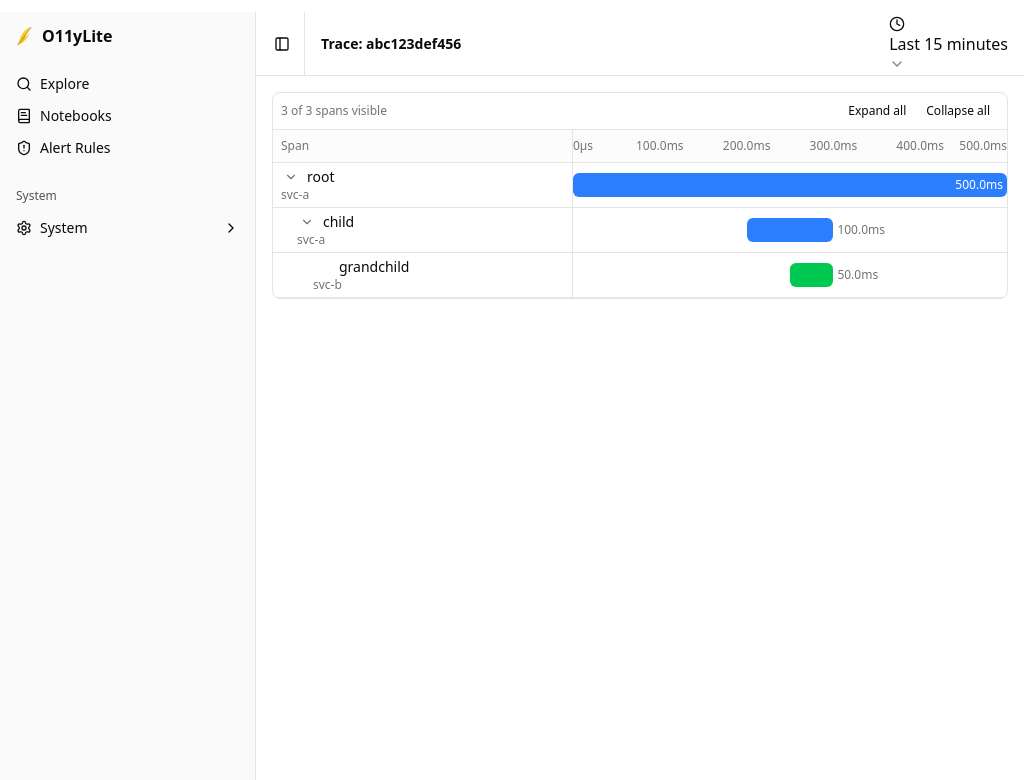
Trace page — span click opens side panel › collapses and expands a span group without selecting the span
Check: the text "root" is shown, box 307,167 -> 334,187
Check: the text "child" is shown, box 323,212 -> 354,232
Click the button named "Collapse root" at (291,177), box 281,167 -> 301,187
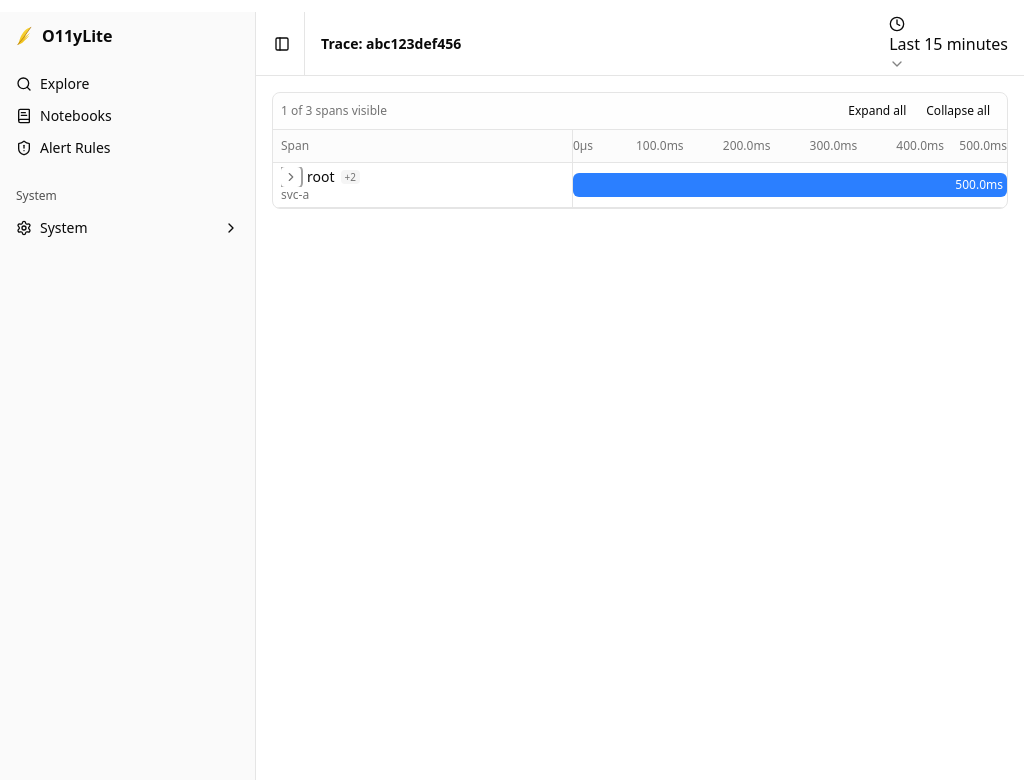
Check: the text "child" is gone
Check: the text "grandchild" is gone
Check: the text "+2" is shown, box 340,170 -> 360,184
Click the button named "Expand root" at (291,177), box 281,167 -> 301,187
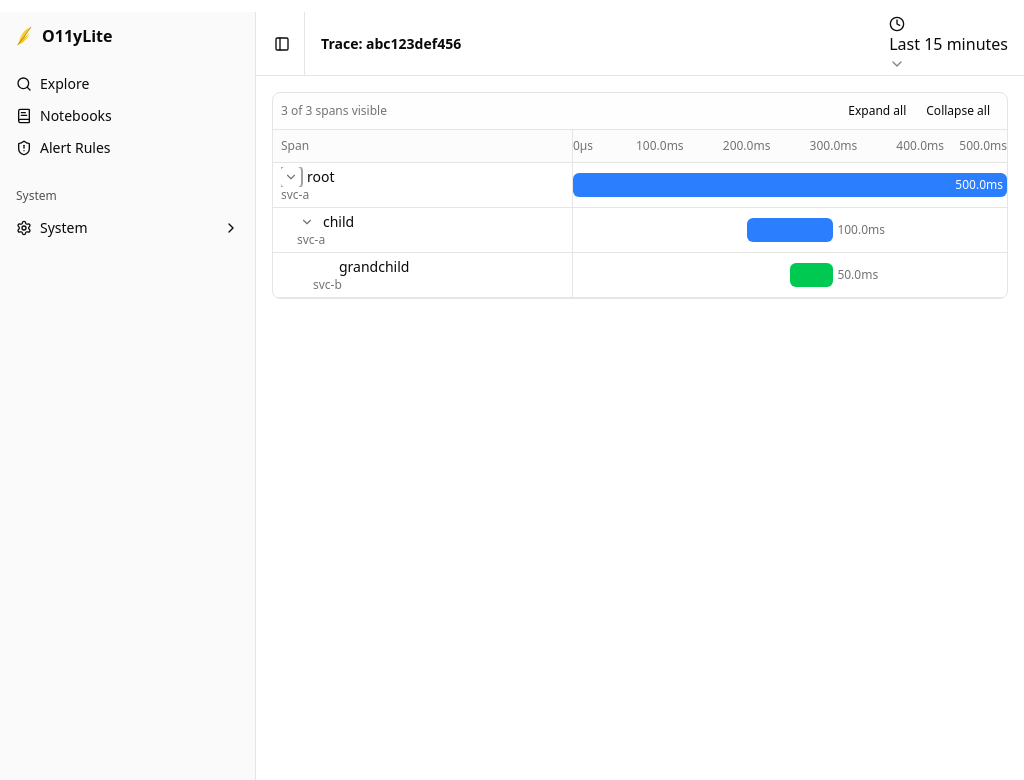
Check: the text "child" is shown, box 323,212 -> 354,232
Check: the text "grandchild" is shown, box 339,257 -> 409,277
